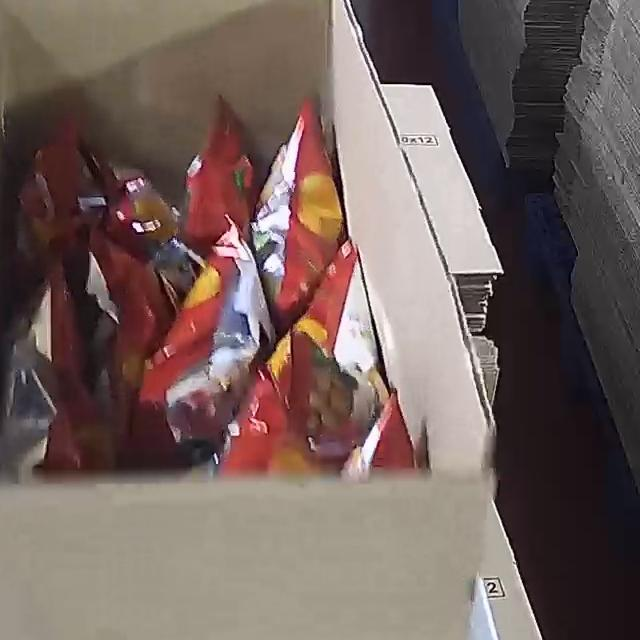masala: (7, 91, 384, 477)
